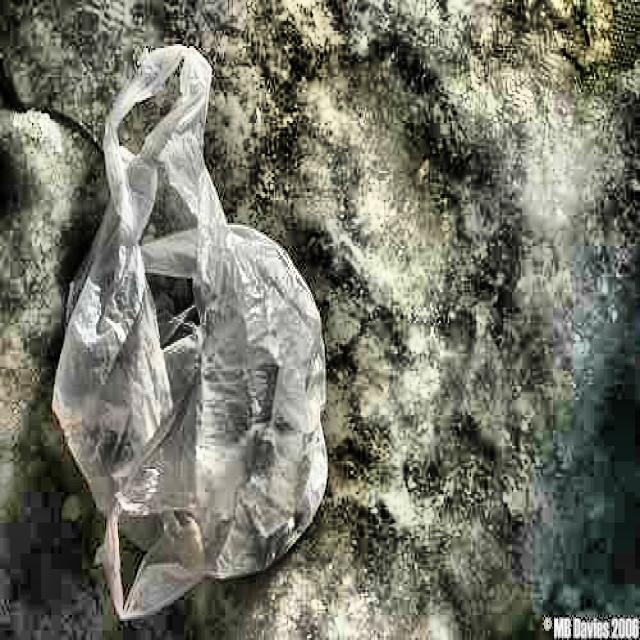Plastic: (47, 36, 343, 629)
